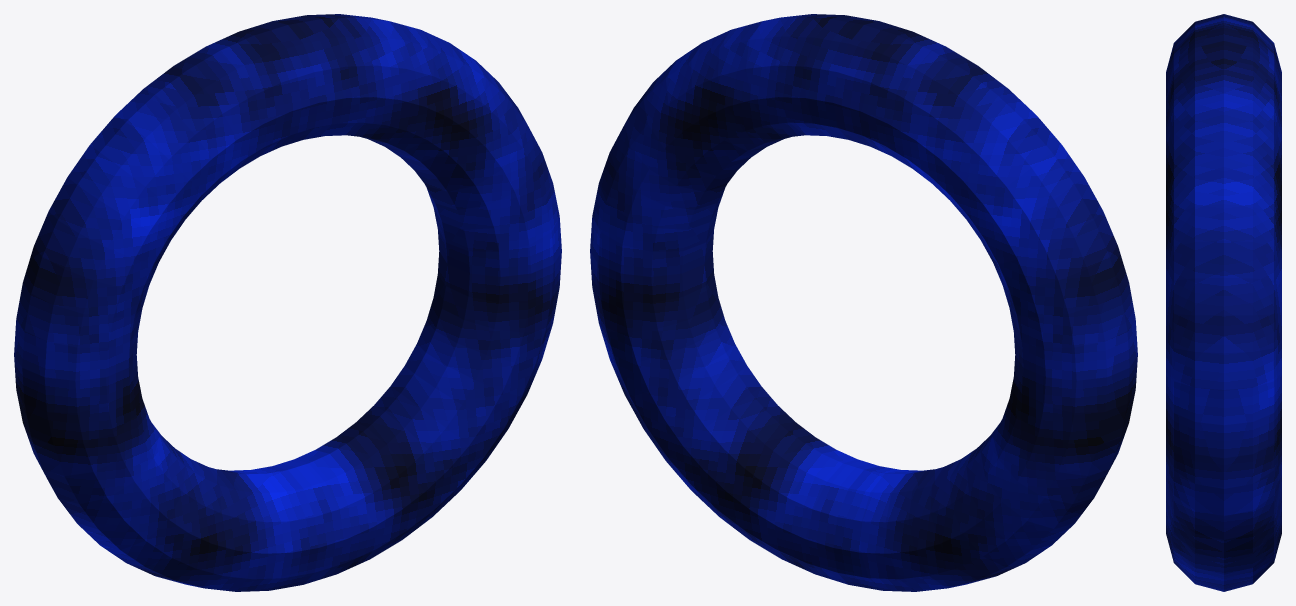
File: ring.obj
The picture shows the model from 3 angles, left to right: view 1: azimuth 30°, elevation 25°; view 2: azimuth 150°, elevation 25°; view 3: azimuth 270°, elevation 25°; orthographic projection. The views are drawn at different scales.
Parts seen in each view (by area): view 1: Torus; view 2: Torus; view 3: Torus.
Part boxes in pixels (box(x1,y1,x2,y2)): Torus: box(14, 14, 561, 591); Torus: box(590, 14, 1137, 591); Torus: box(1166, 14, 1281, 591).
Size of the model in its own units: 0.6103 by 0.6103 by 0.1221.
